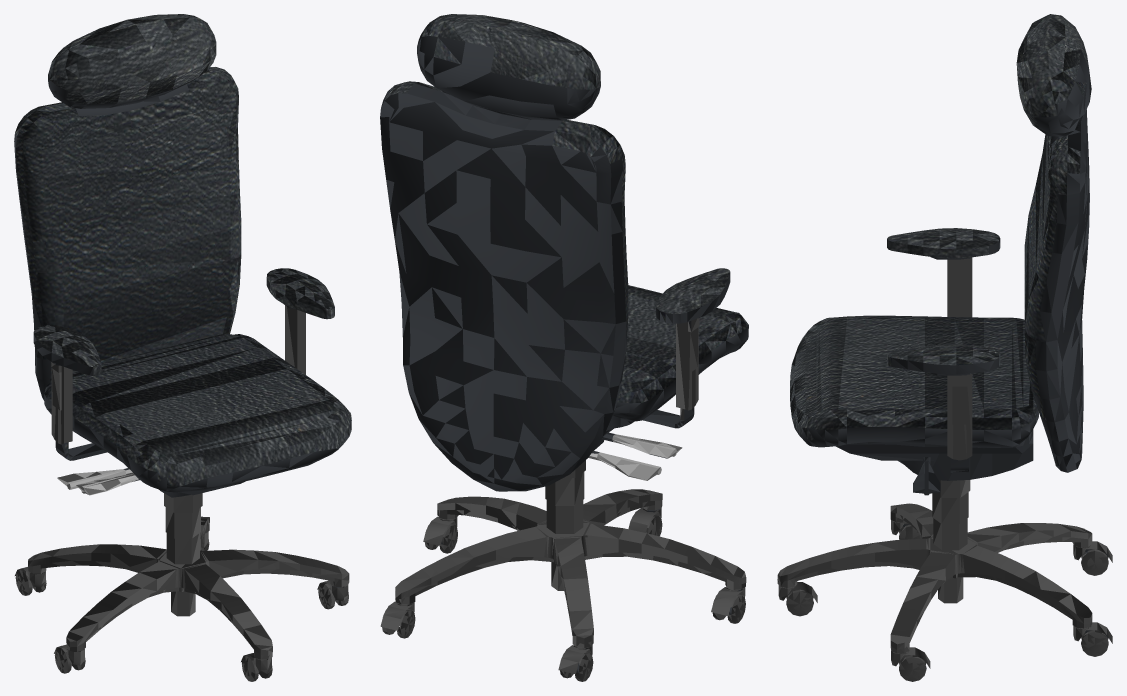
Rendered from chair8.glb.
3 views of the same model, side by side, from view 1: azimuth 30°, elevation 25°; view 2: azimuth 150°, elevation 25°; view 3: azimuth 270°, elevation 25° (orthographic). The views are drawn at different scales.
Visible parts, largest first — view 1: officeChair3; view 2: officeChair3; view 3: officeChair3.
Part boxes in pixels (x1,y1,x2,y2): officeChair3: (14, 14, 351, 681); officeChair3: (380, 14, 748, 681); officeChair3: (777, 14, 1112, 681).
Size of the model in its own units: 1.6 by 3.06 by 1.61.
Materials: 3 (1 with a texture image).
